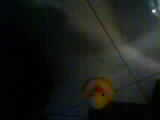duck: (75, 75, 119, 112)
